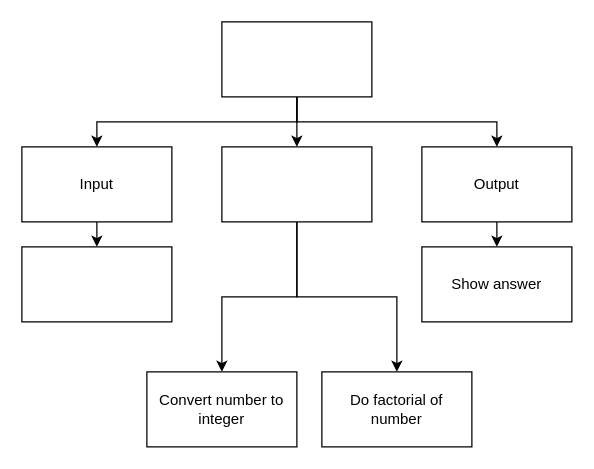
Image size: 594x469. Some labels were removed from this diagram. The centre of each missing label's shape, as x and y in pixels:
Factorial: the point at 296,59
get number: the point at 96,284
Process: the point at 296,184
